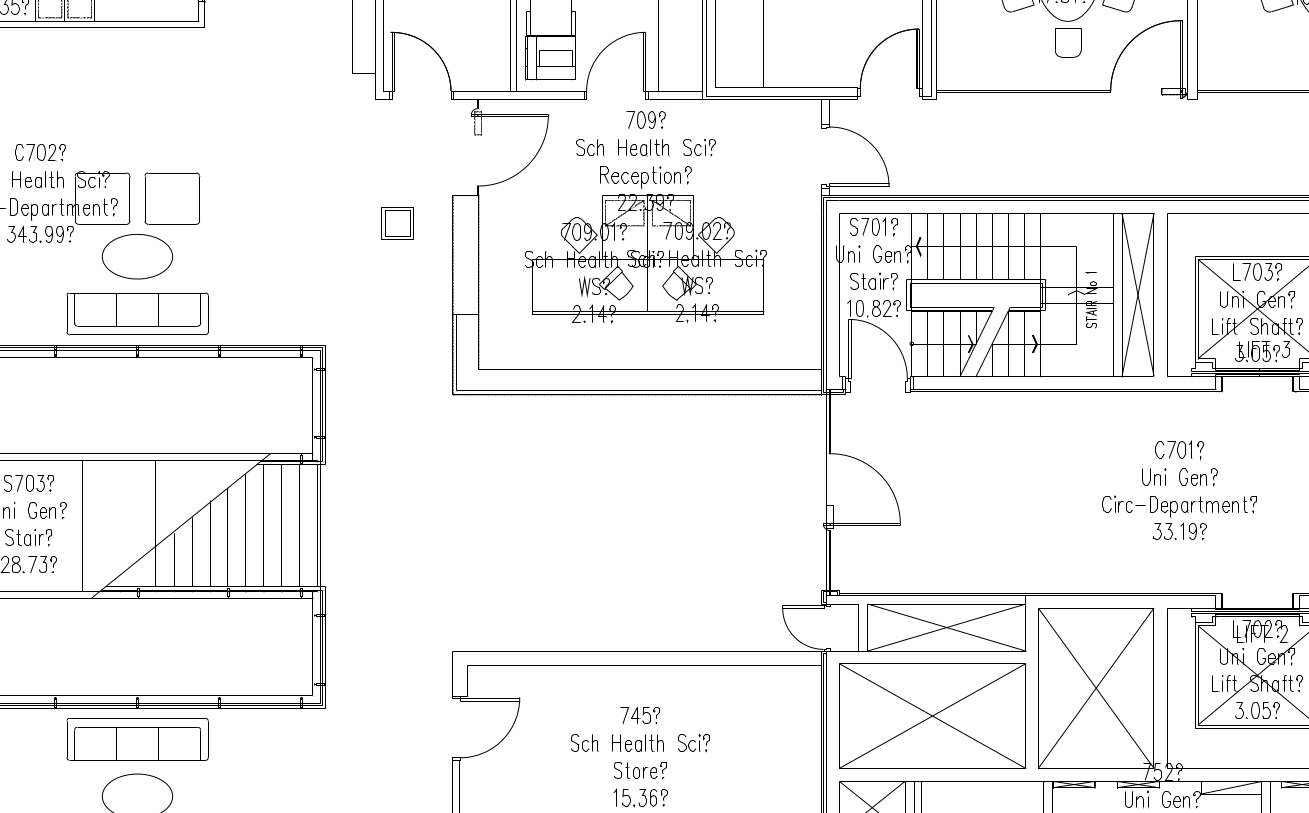door: (1099, 11, 1185, 93), (829, 444, 906, 529), (481, 105, 557, 190), (386, 17, 455, 103), (582, 24, 653, 94), (849, 22, 920, 92), (827, 120, 898, 190), (842, 313, 909, 384), (456, 697, 524, 758), (770, 599, 825, 649)
